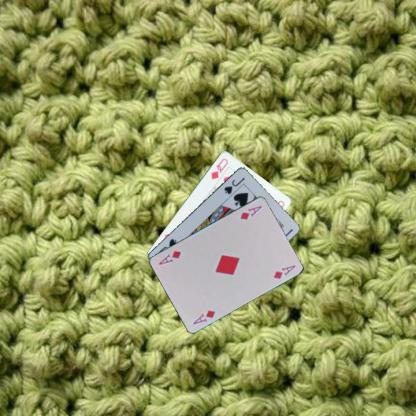Ad: (237, 203, 263, 221), (190, 308, 216, 326)
Js: (221, 174, 246, 196)
Qd: (209, 155, 230, 181)
